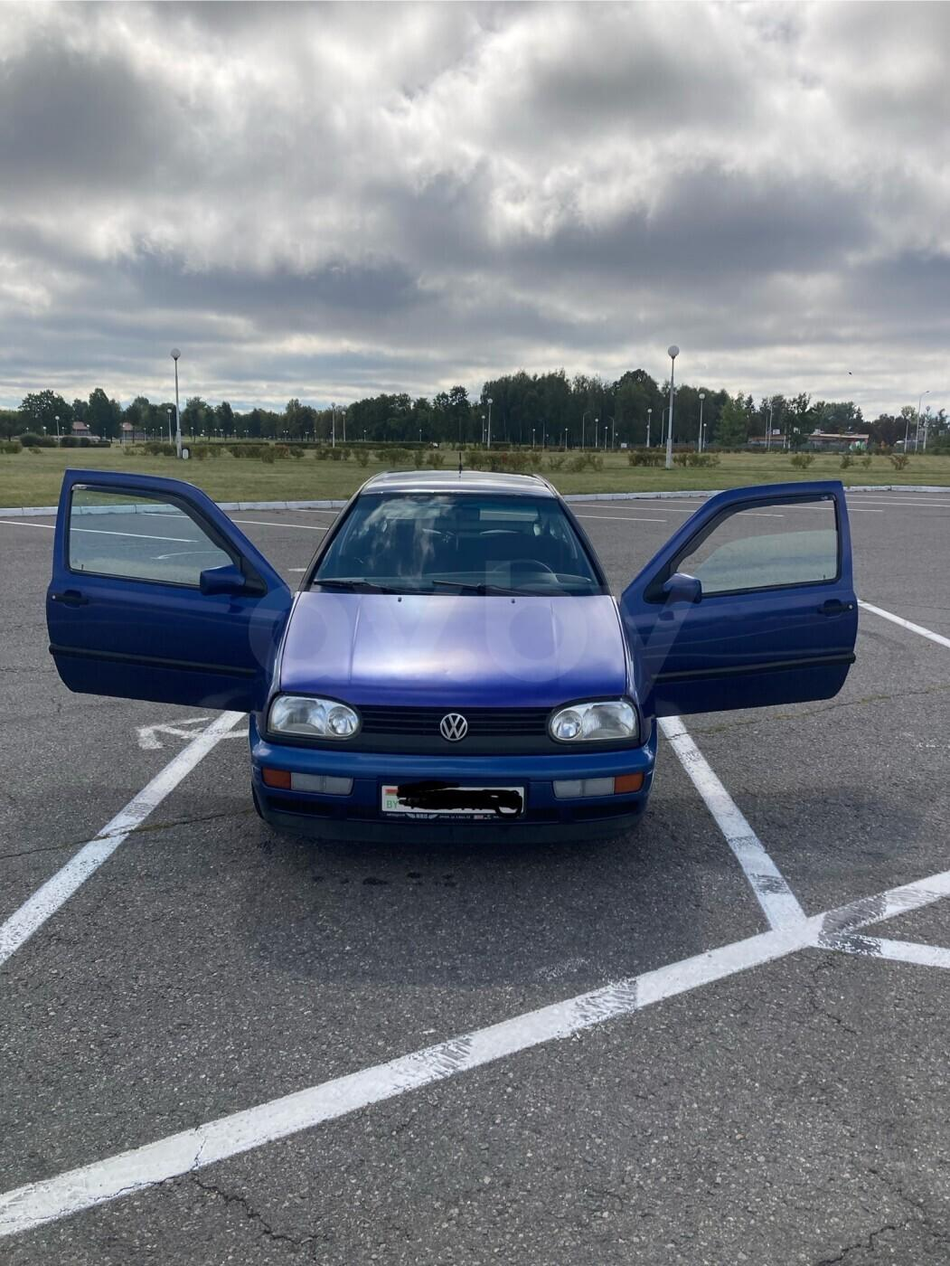Golf_1991-2000: (50, 459, 854, 870)
